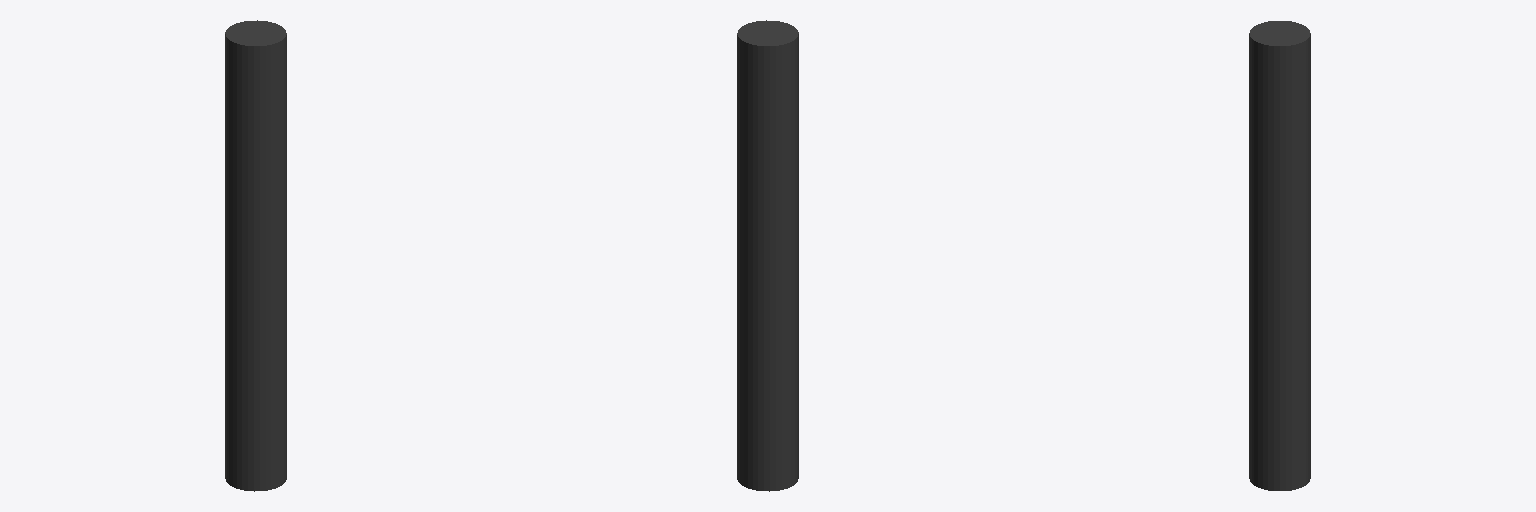
URDF robot description (pillar):
<?xml version='1.0' encoding='UTF-8'?>
<robot name="pillar">
    <link name="base_link">
        <inertial>
          <origin xyz="0.0 0.0 0.0" rpy="0.0 -0.0 0.0"/>
          <mass value="1.0"/>
          <inertia ixx="1.0" ixy="0.0" ixz="0.0" iyy="1.0" iyz="0.0" izz="1.0"/>
        </inertial>
        <visual name="base_link_visual">
          <geometry>
            <cylinder radius="0.5" length="8"/>
          </geometry>
          <material name="base_link_color">
            <color rgba="0.3 0.3 0.3 1"/>
          </material>
          <origin xyz="0 0 0" rpy="0 0 0"/>
        </visual>
        <collision name="base_link_collision">
            <origin xyz="0 0 0" rpy="0 0 0"/>
            <geometry>
                <cylinder radius="0.5" length="8"/>
            </geometry>
        </collision>
    </link>
</robot>

--- Render facts (derived) ---
The picture shows the robot from 3 angles, left to right: view 1: azimuth 30°, elevation 25°; view 2: azimuth 150°, elevation 25°; view 3: azimuth 270°, elevation 25°; orthographic projection.
Robot: pillar — 1 links, 0 joints (none); root link base_link; default pose: every joint at zero.
Links seen in each view (by area): view 1: base_link; view 2: base_link; view 3: base_link.
Link boxes in pixels (x1,y1,x2,y2): base_link: (225, 20, 286, 491); base_link: (737, 20, 798, 491); base_link: (1249, 21, 1310, 490).
Size in the robot's own frame: 1 by 1 by 8 metres.
Geometry: primitives only (box / cylinder / sphere), no mesh files.